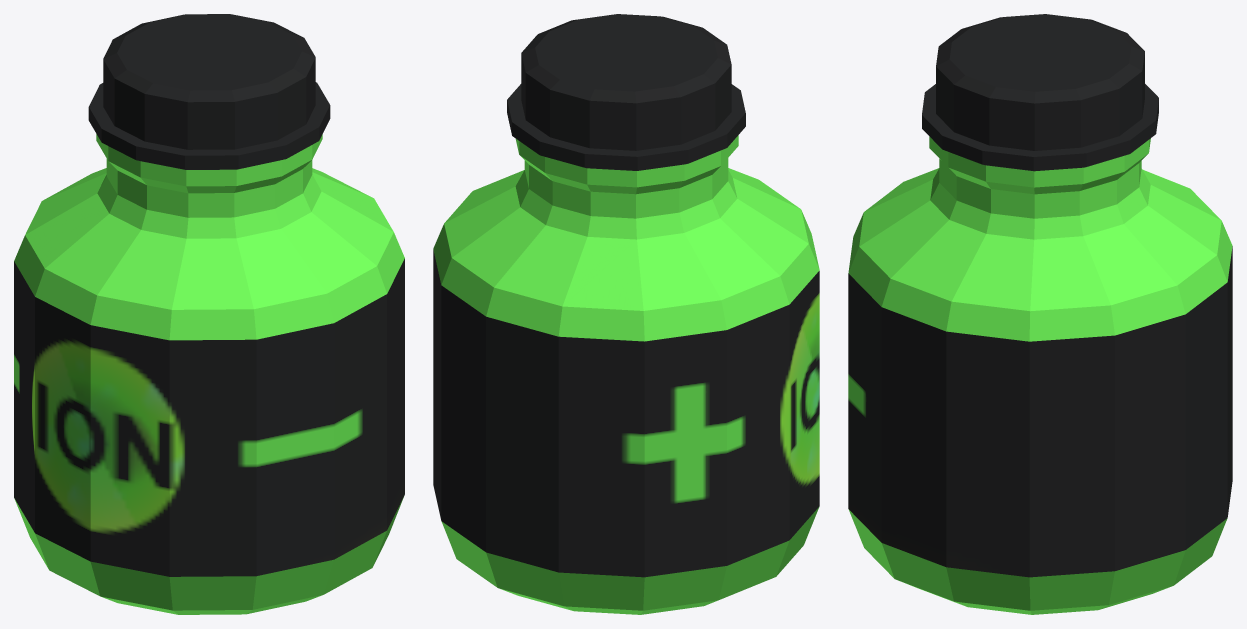
File: Ionized chemical.fbx
3 renders of one model, left to right at view 1: azimuth 30°, elevation 25°; view 2: azimuth 150°, elevation 25°; view 3: azimuth 270°, elevation 25°, orthographic.
Parts seen in each view (by area): view 1: lonized_chemical; view 2: lonized_chemical; view 3: lonized_chemical.
Boxes of the visible parts, x1,y1,x2,y2 form: lonized_chemical: [14, 14, 404, 614]; lonized_chemical: [433, 14, 819, 614]; lonized_chemical: [848, 14, 1232, 614].
Bounding box in the file's own units: 0.765 × 1.08 × 0.7554.
